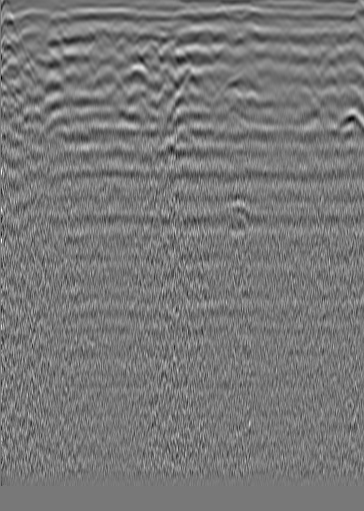가스: (220, 196, 256, 230)
상수: (314, 29, 338, 58)
오수: (40, 13, 71, 48)
우수: (156, 35, 190, 60)
